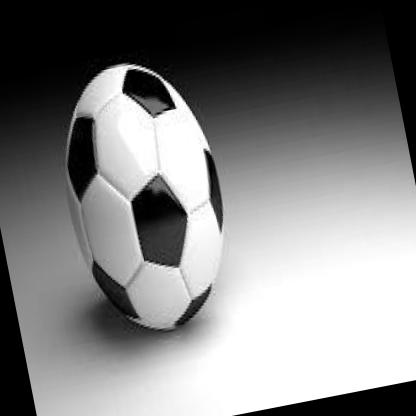ball: (44, 49, 242, 343)
